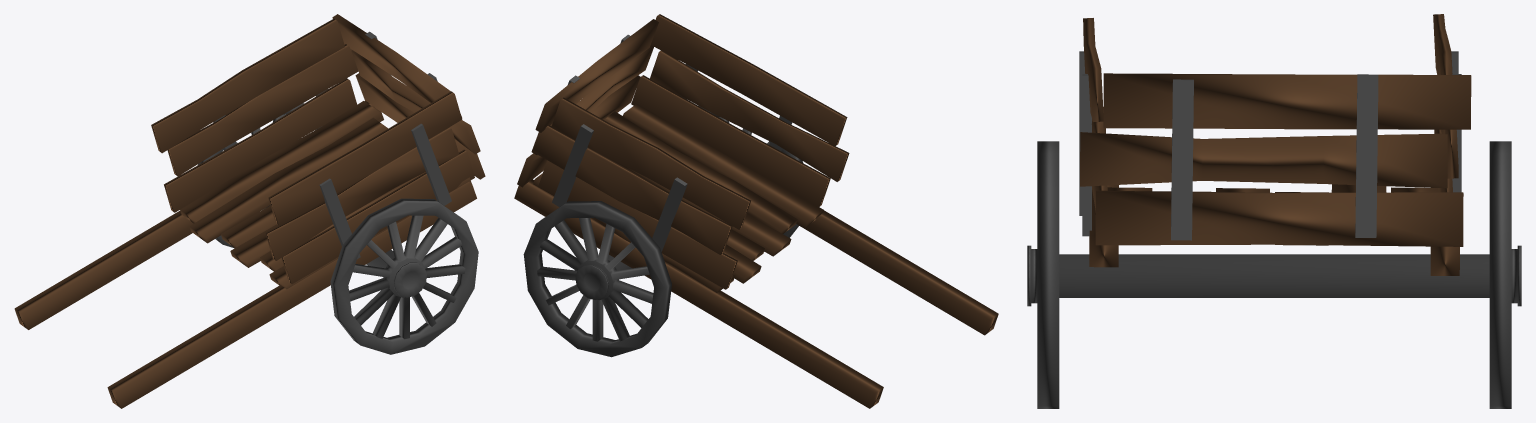
The model's file is Cart.fbx.
3 views of the same model, side by side, from view 1: azimuth 30°, elevation 25°; view 2: azimuth 150°, elevation 25°; view 3: azimuth 270°, elevation 25° (orthographic). The views are drawn at different scales.
Parts seen in each view (by area): view 1: Cube.003, Cylinder, Cube.001; view 2: Cube.003, Cylinder, Cube.001; view 3: Cube.003, Cylinder, Cube.001.
Part boxes in pixels (x1=…): Cube.003: x1=14, y1=14, x2=485, y2=408; Cylinder: x1=198, y1=103, x2=478, y2=354; Cube.001: x1=213, y1=31, x2=451, y2=259; Cube.003: x1=514, y1=14, x2=998, y2=408; Cylinder: x1=523, y1=105, x2=802, y2=357; Cube.001: x1=552, y1=34, x2=792, y2=251; Cube.003: x1=1080, y1=14, x2=1471, y2=275; Cylinder: x1=1027, y1=141, x2=1521, y2=408; Cube.001: x1=1079, y1=51, x2=1461, y2=240.
Size of the model in its own units: 627 by 375 by 437.
